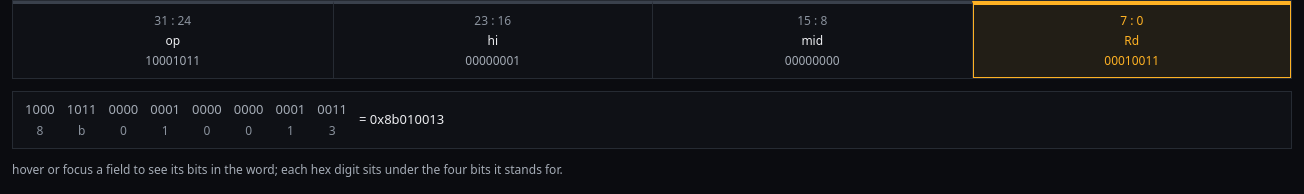
BitFieldDiagram › renders bit-range headers and the amber destination when bitHeaders is set
Expected: the text "31 : 24" is shown, [154, 12, 191, 29]
Expected: the text "23 : 16" is shown, [474, 12, 511, 29]
# ...and the worked-encoding interactivity is intact underneath it.
Focus the button with aria-label "Rd, 8 bits, 00010011, x19" at (1132, 41), box [972, 4, 1291, 78]
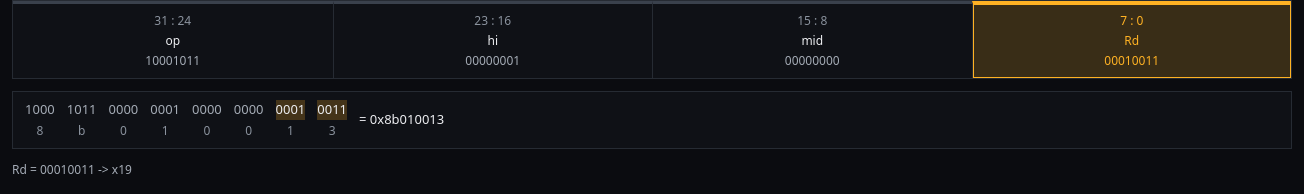
Result: the text "Rd = 00010011 -> x19" is shown at [12, 160, 132, 178]
